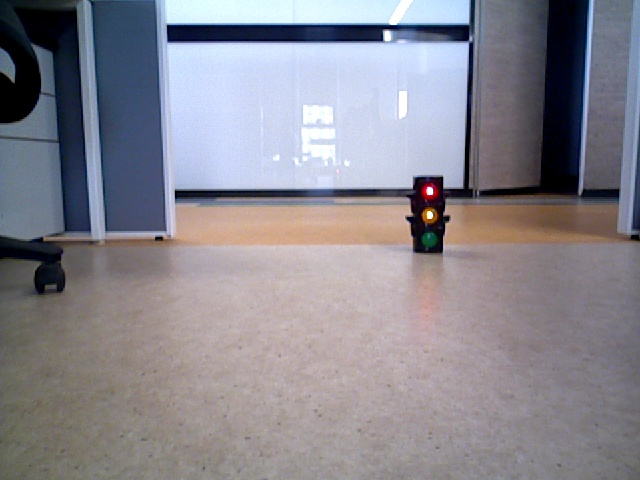red: (414, 178, 445, 250)
